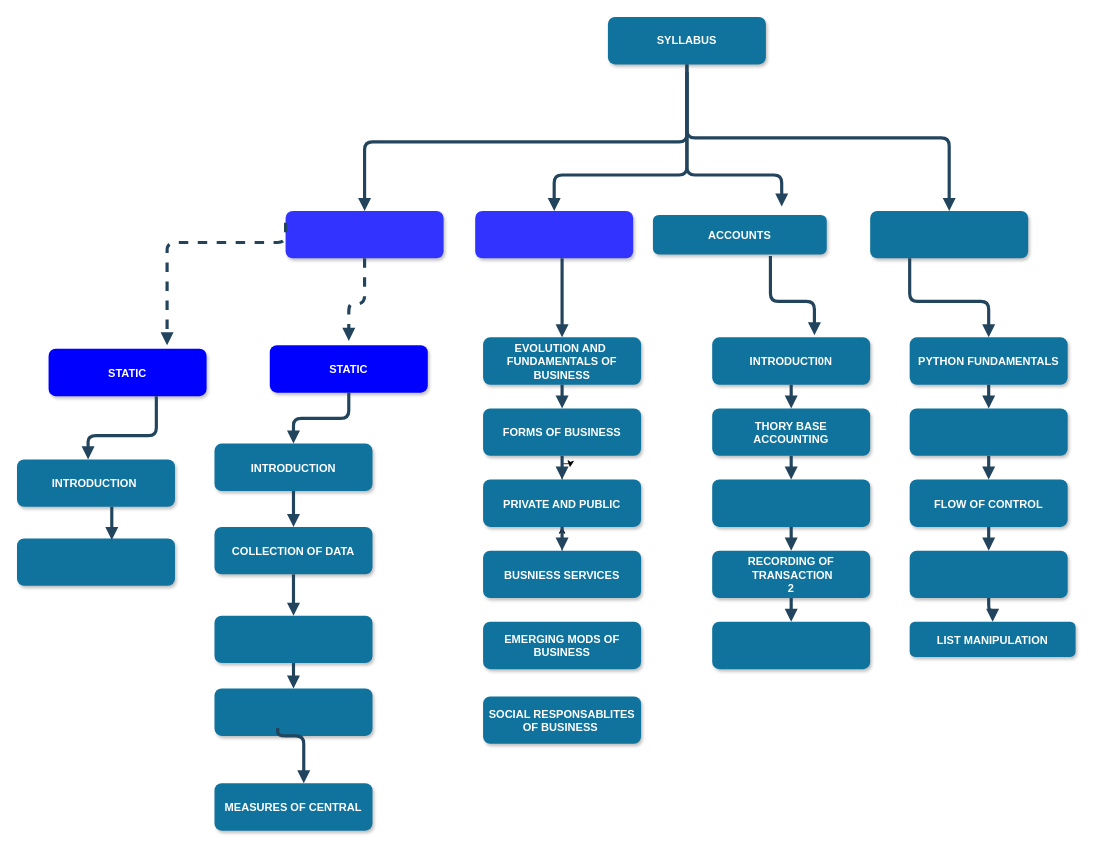
The diagram is 1093 pixels wide and 849 high, and some of its shapes have lost their labels. The centre of each missing label's shape, as x and y in pixels:
"BANK RECONCILIATION STATEMENT" belongs at point 792,646.
"BUSNIESS STUDIES" belongs at point 555,235.
"COMPUTER" belongs at point 950,235.
"DATA HANDLING" belongs at point 989,433.
"ECONOMICS" belongs at point 365,235.
"ORGNIZATION OF DATA" belongs at point 294,640.
"PRESENTATION OF DATA" belongs at point 294,713.
"RECORDING OF TRANSACTION 1" belongs at point 792,504.
"STRING MANIPULATION" belongs at point 989,575.
"THEORY OF MICROECONOMICS" belongs at point 96,563.
